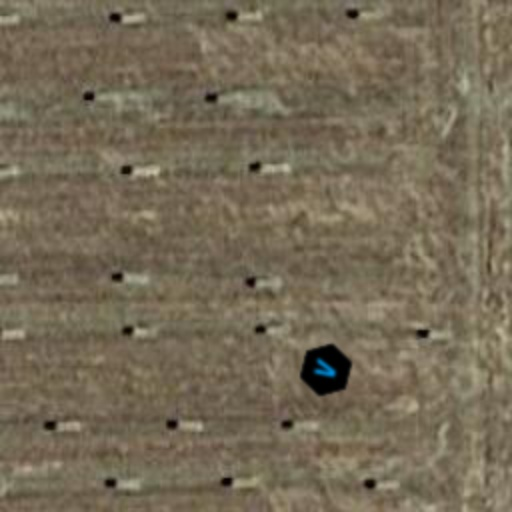hexagon: (292, 336, 360, 404)
